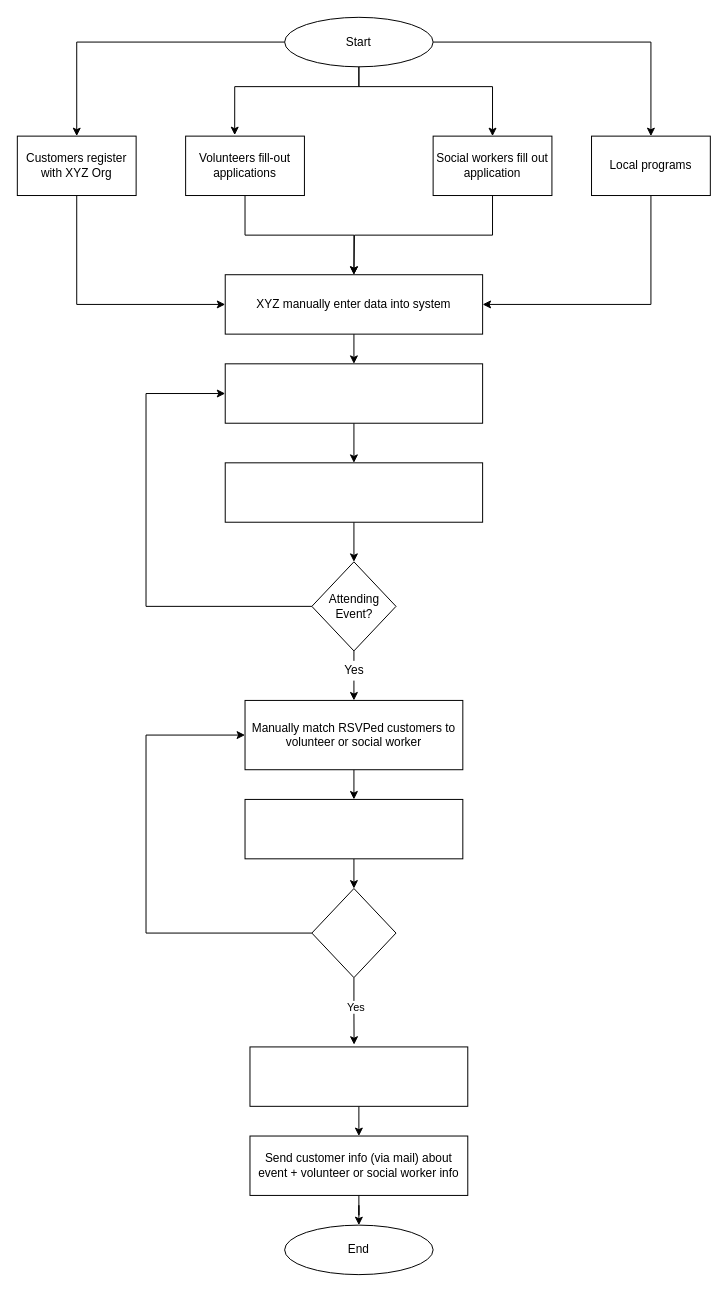
This 728x1292 diagram has some shape labels left out. Each missing label, with the box of its shape:
Call volunteer/social worker to confirm availability: (244, 798, 463, 859)
Confirmed Availability?: (311, 888, 396, 978)
Manually match Customers to Local program: (224, 363, 483, 423)
Matched customers to local program sent out a mail to RSVP for the event: (224, 462, 483, 522)
Update database to match customer to volunteer or social worker: (249, 1046, 468, 1106)
